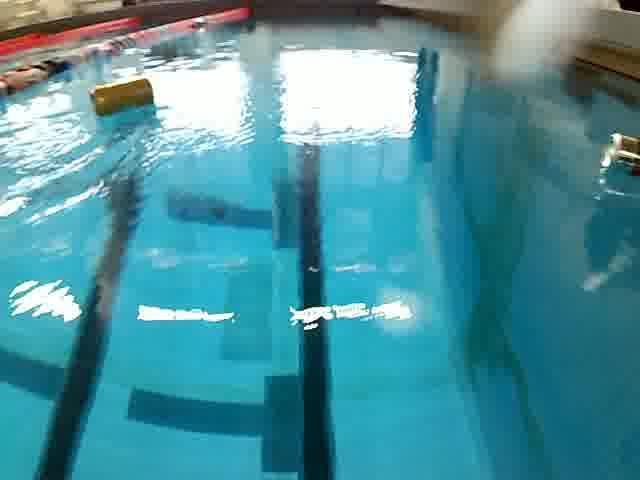Can: (89, 75, 162, 118), (596, 128, 640, 186)
